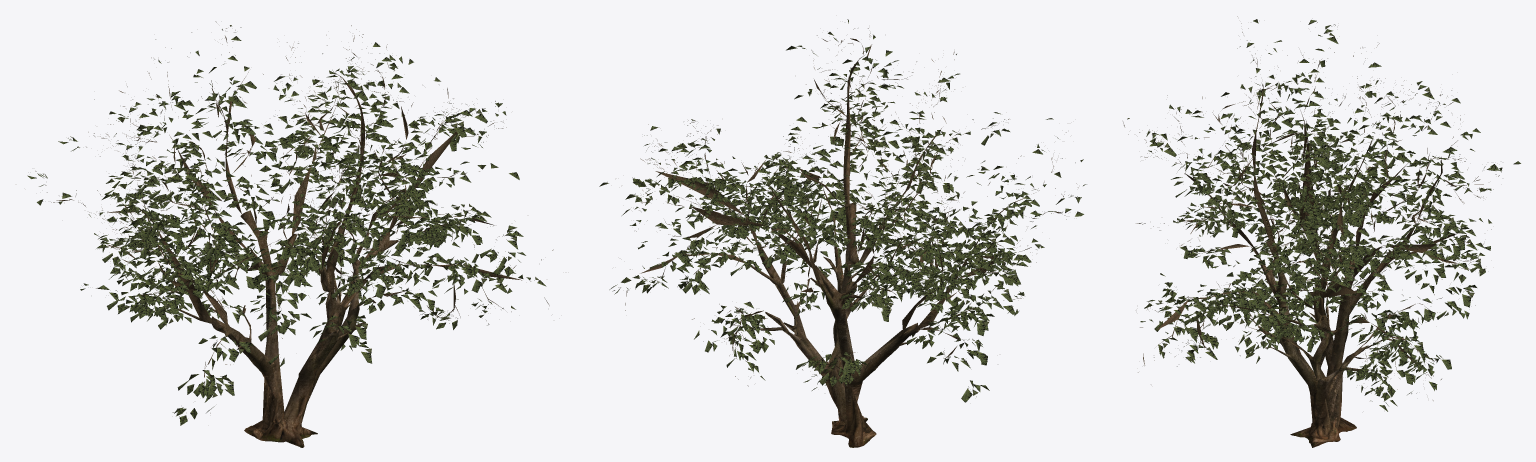
File: bigtree.glb
3 renders of one model, left to right at view 1: azimuth 30°, elevation 25°; view 2: azimuth 150°, elevation 25°; view 3: azimuth 270°, elevation 25°, orthographic. The views are drawn at different scales.
Parts seen in each view (by area): view 1: jacaranda_tree_LOD0; view 2: jacaranda_tree_LOD0; view 3: jacaranda_tree_LOD0.
Boxes of the visible parts, x1,y1,x2,y2 form: jacaranda_tree_LOD0: (27, 21, 553, 447); jacaranda_tree_LOD0: (599, 19, 1086, 447); jacaranda_tree_LOD0: (1123, 16, 1520, 447).
Bounding box in the file's own units: 11.56 × 9.5 × 8.92.
Materials: 3 (3 with a texture image).
